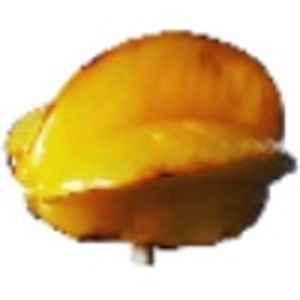carambola: (3, 29, 300, 268)
